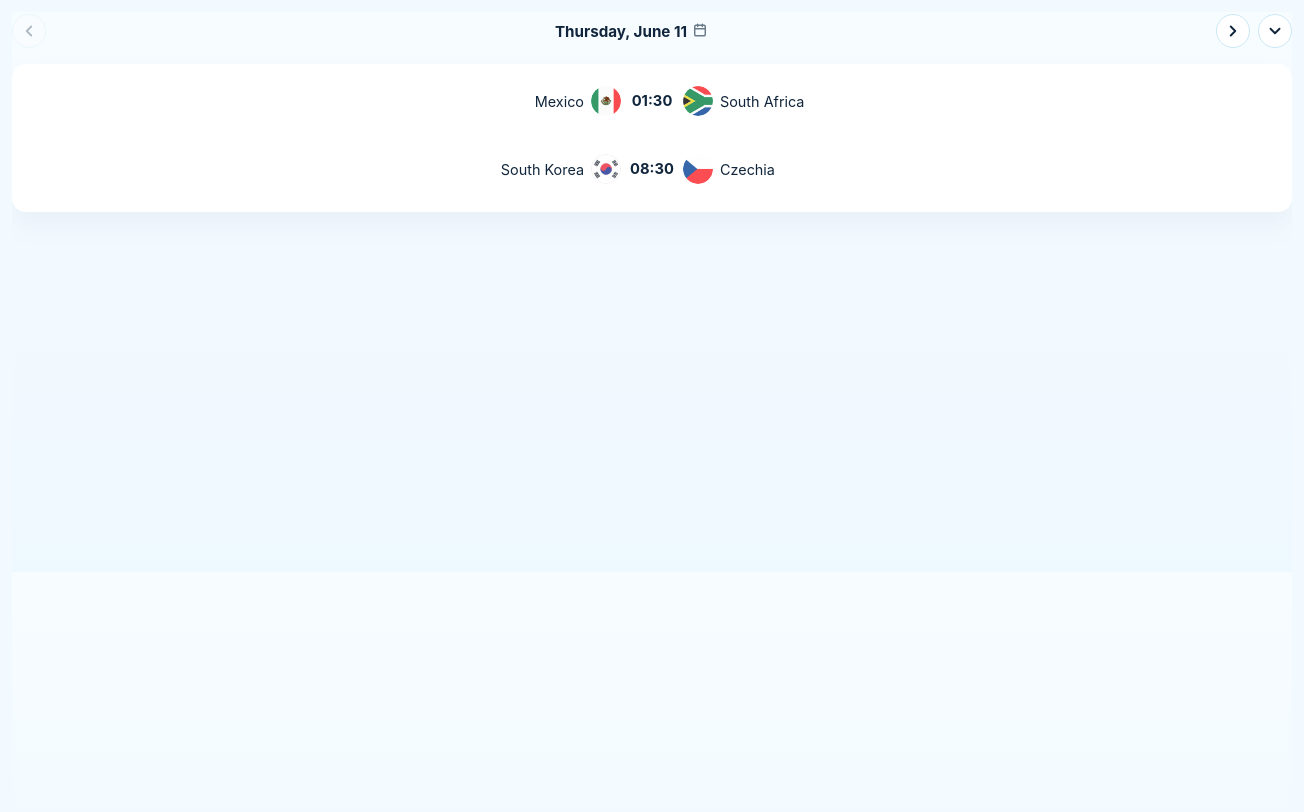
Test: opens a group picker with Group A through Group L
Click the button named "Filter options" at (1275, 31), box [1258,14,1292,48]
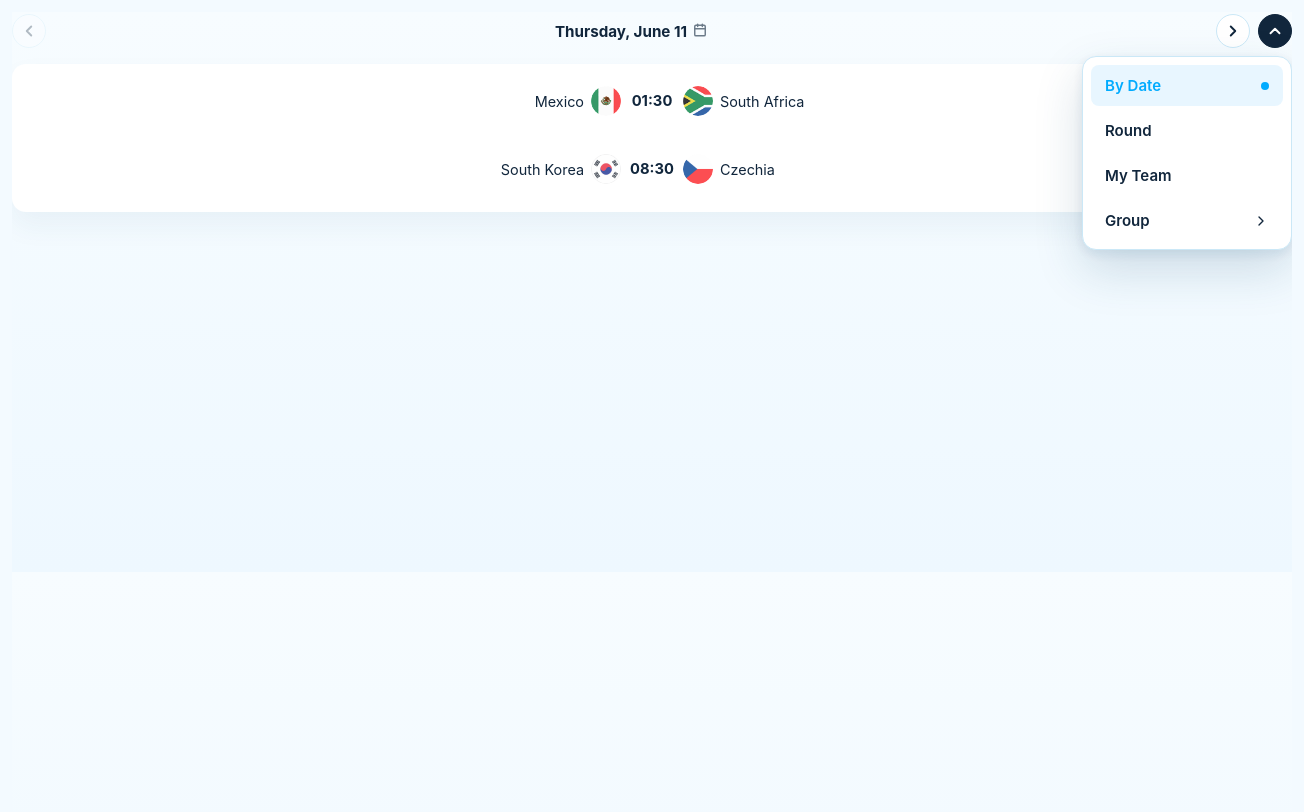
Click the menu item "Group" at (1187, 220), box [1091,200,1283,241]
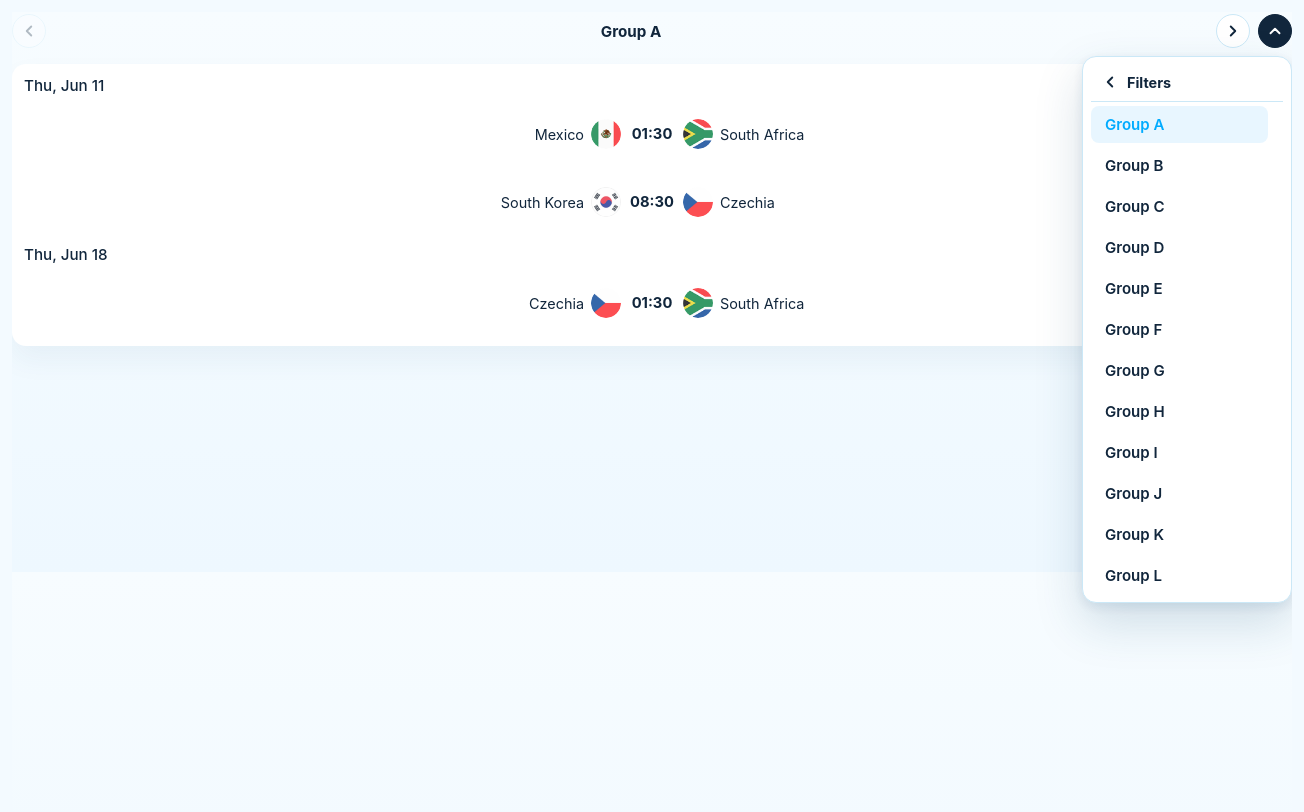
Expected: the option "Group A" is shown, [1091,106,1268,143]
Expected: the option "Group B" is shown, [1091,147,1268,184]
Expected: the option "Group C" is shown, [1091,188,1268,225]
